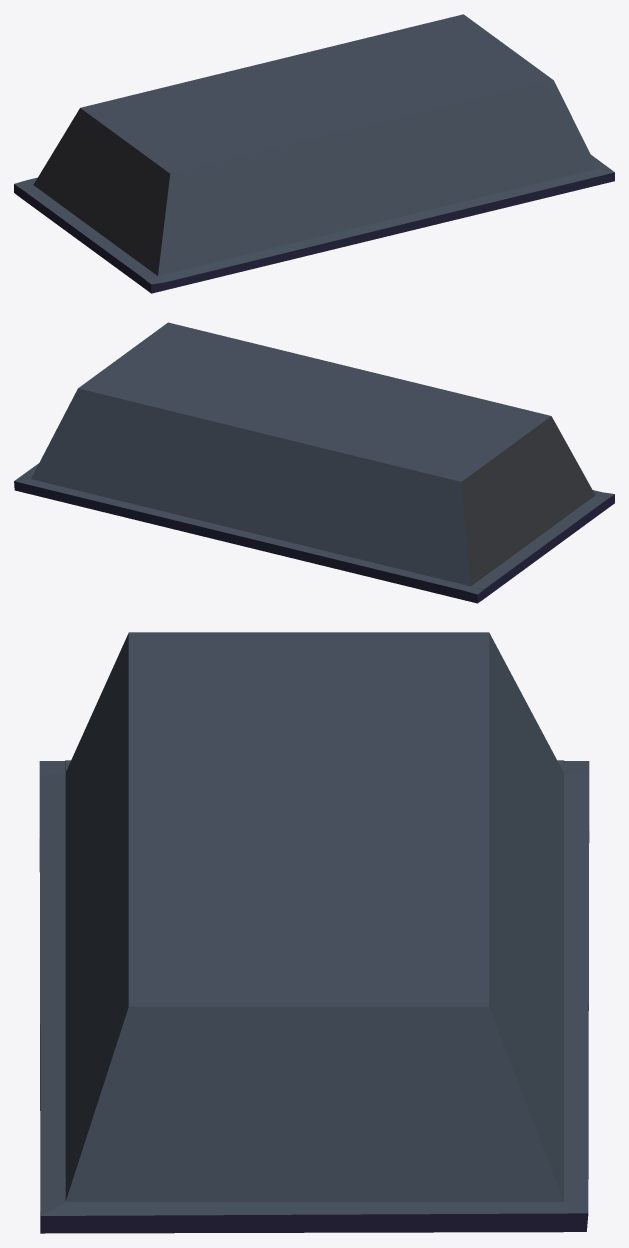
The model's file is DoubleRoof.fbx.
3 views of the same model, one above another, from view 1: azimuth 30°, elevation 25°; view 2: azimuth 150°, elevation 25°; view 3: azimuth 270°, elevation 25° (orthographic). The views are drawn at different scales.
Parts seen in each view (by area): view 1: Cube; view 2: Cube; view 3: Cube.
Boxes of the visible parts, box(x1,y1,x2,y2) form: Cube: box(14, 14, 614, 293); Cube: box(14, 322, 614, 603); Cube: box(39, 632, 589, 1233).
Bounding box in the file's own units: 1039 × 202 × 533.
